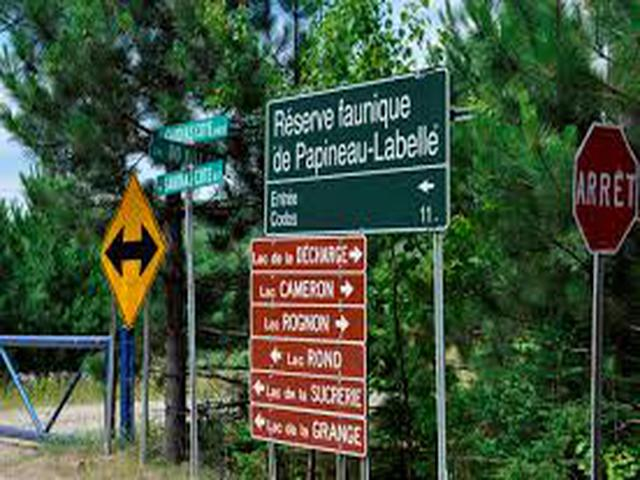autre: (257, 66, 457, 235)
stop: (570, 122, 637, 257)
